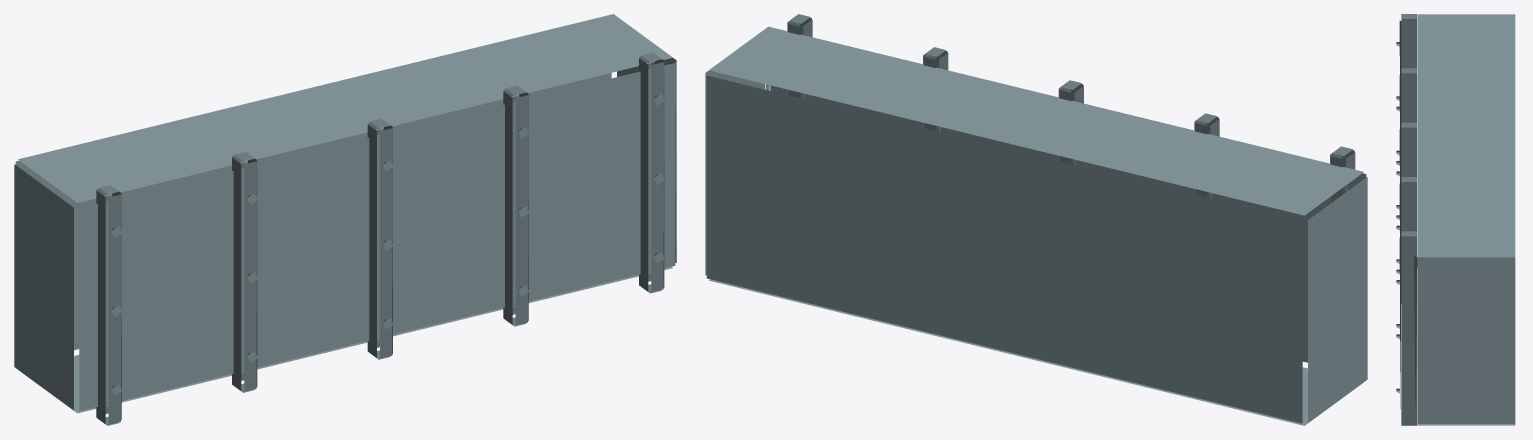
The model's file is steelwall.glb.
The picture shows the model from 3 angles, left to right: view 1: azimuth 30°, elevation 25°; view 2: azimuth 150°, elevation 25°; view 3: azimuth 270°, elevation 25°; orthographic projection. The views are drawn at different scales.
Visible parts, largest first — view 1: Cube.024, Cube.029, Cube.026, Cube.028, Cube.025, Cube.027; view 2: Cube.024; view 3: Cube.024, Cube.029, Cube.025, Cube.026, Cube.027, Cube.028.
Part boxes in pixels (<box>): Cube.024: <box>14,14,676,413</box>; Cube.029: <box>639,52,664,293</box>; Cube.026: <box>232,152,257,392</box>; Cube.028: <box>503,85,528,326</box>; Cube.025: <box>96,185,121,425</box>; Cube.027: <box>367,118,392,359</box>; Cube.024: <box>705,26,1367,425</box>; Cube.024: <box>1414,14,1515,425</box>; Cube.029: <box>1399,231,1416,425</box>; Cube.025: <box>1399,14,1416,75</box>; Cube.026: <box>1399,68,1416,129</box>; Cube.027: <box>1399,122,1416,183</box>; Cube.028: <box>1399,177,1416,238</box>.
Size of the model in its own units: 6 by 2.2 by 1.29.
